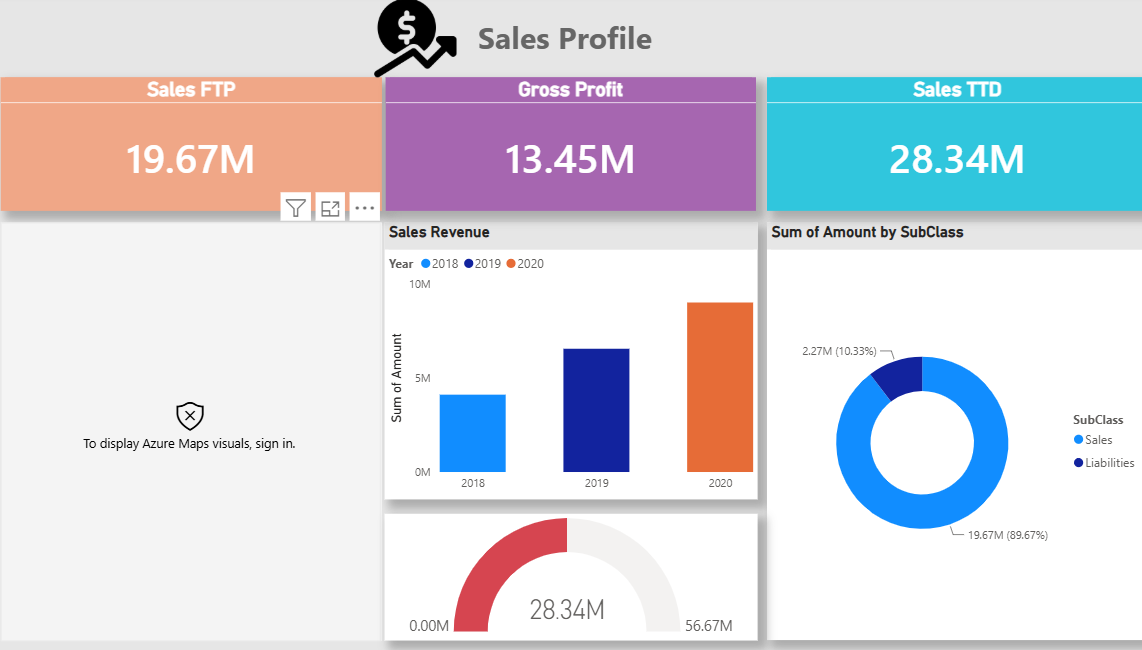

What the dashboard file says about the page in this screenshot:
{"tool":"powerbi","page":{"name":"Sales Profile","canvas":[1280,720],"ordinal":2},"visuals":[{"type":"lineStackedColumnComboChart","title":"Sales Revenue","fields":{"Category":["Calendar.Date.Variation.Date Hierarchy.Year"],"Y":["Sum(GL.Amount)"],"Series":["Calendar.Year"]},"box":[441.8,250.3,409.9,304],"z":0},{"type":"shape","box":[0,0,1280,90.7],"z":1000},{"type":"donutChart","fields":{"Y":["Sum(GL.Amount)"],"Category":["Chart of Accounts.SubClass"]},"box":[861.7,250.3,418.3,458.6],"z":2000},{"type":"cardVisual","title":"Sales FTP","fields":{"Data":["GL.SalesFTP"]},"box":[20.2,90.7,418.3,146.1],"z":3000},{"type":"cardVisual","title":"Gross Profit","fields":{"Data":["GL.Gross Profit"]},"box":[443.5,90.7,406.5,146.1],"z":4000},{"type":"cardVisual","title":"Sales TTD","fields":{"Data":["GL.Total_TTD"]},"box":[861.7,90.7,418.3,146.1],"z":5000},{"type":"azureMap","fields":{"Category":["Territory.Region"]},"box":[20,250,418,459],"z":6000},{"type":"gauge","fields":{"Y":["Sum(GL.Amount)"]},"box":[441.8,569.4,409.9,139.4],"z":7000},{"type":"image","box":[418.3,0,114.2,90.7],"z":8000}]}

Visuals, with their boxes in screenshot pixels (x1, y1, x2, y2), scaled from the page's 1280x720 canvas onto the 1142x650 screenshot:
"Sales Revenue" lineStackedColumnComboChart: (x1=394, y1=226, x2=760, y2=500)
shape: (x1=0, y1=0, x2=1141, y2=82)
donutChart - Sum(GL.Amount) x Chart of Accounts.SubClass: (x1=769, y1=226, x2=1141, y2=640)
"Sales FTP" cardVisual: (x1=18, y1=82, x2=391, y2=214)
"Gross Profit" cardVisual: (x1=396, y1=82, x2=758, y2=214)
"Sales TTD" cardVisual: (x1=769, y1=82, x2=1141, y2=214)
azureMap - Territory.Region: (x1=18, y1=226, x2=391, y2=640)
gauge - Sum(GL.Amount): (x1=394, y1=514, x2=760, y2=640)
image: (x1=373, y1=0, x2=475, y2=82)
